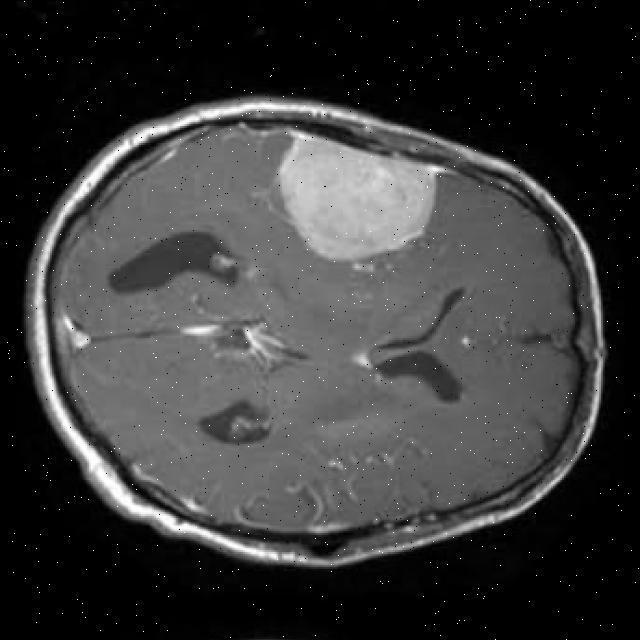Meningioma: (276, 137, 439, 261)
